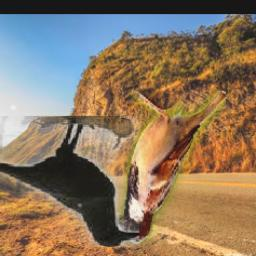Crow: (0, 116, 140, 247)
Sparrow: (113, 91, 226, 244)
